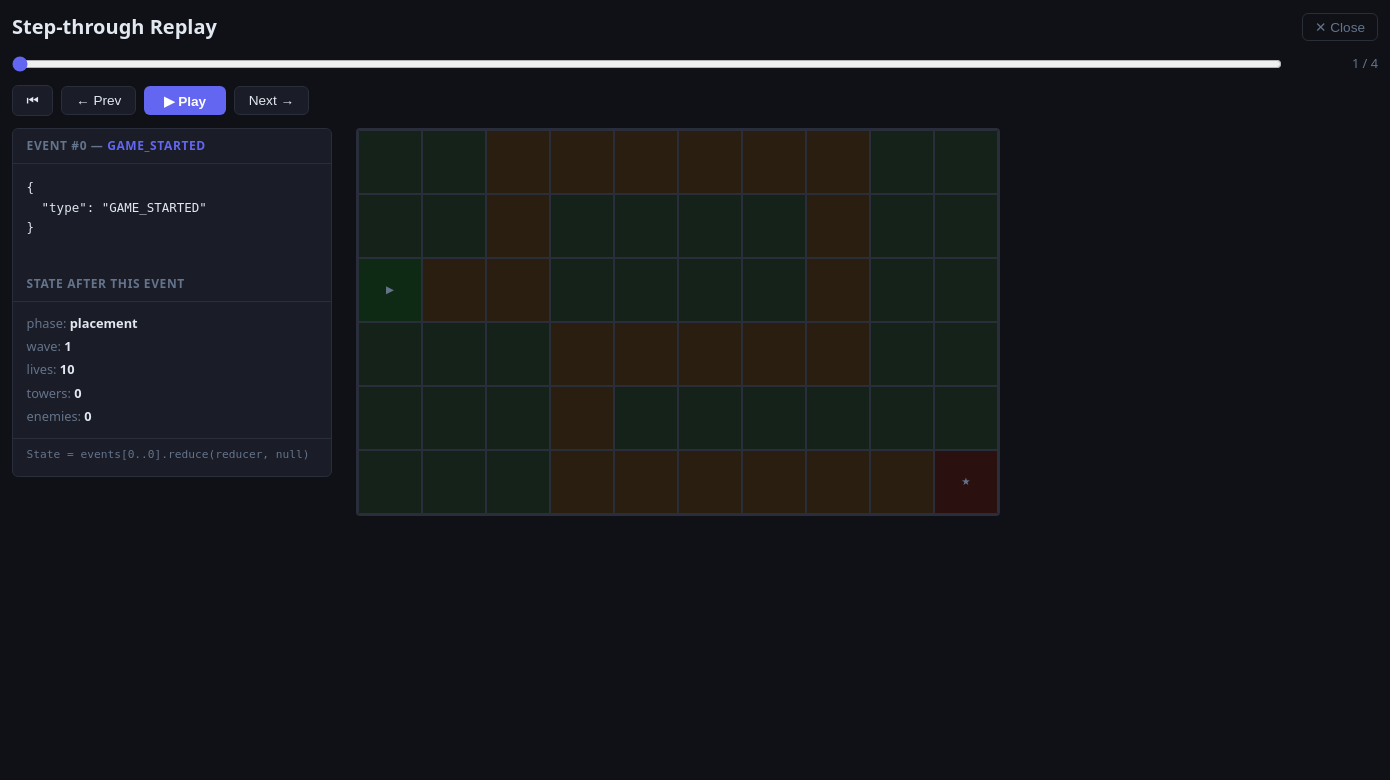
ReplayViewer › restarts to event #0 when ⏮ is clicked
The image size is (1390, 780).
Click the button "Next →". click: {"x": 271, "y": 101}
box: x1=234 y1=86 x2=309 y2=116
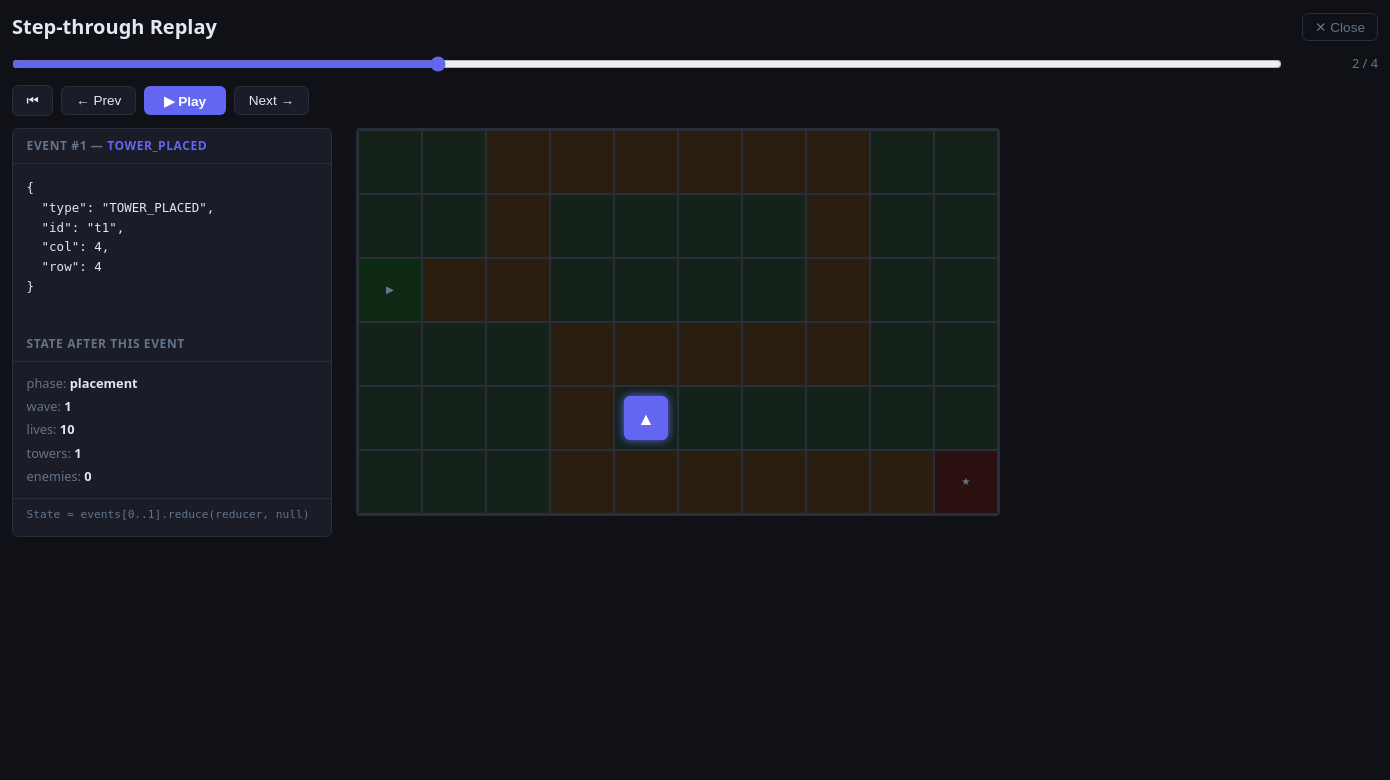
Click the button "Next →". click: {"x": 271, "y": 101}
box: x1=234 y1=86 x2=309 y2=116
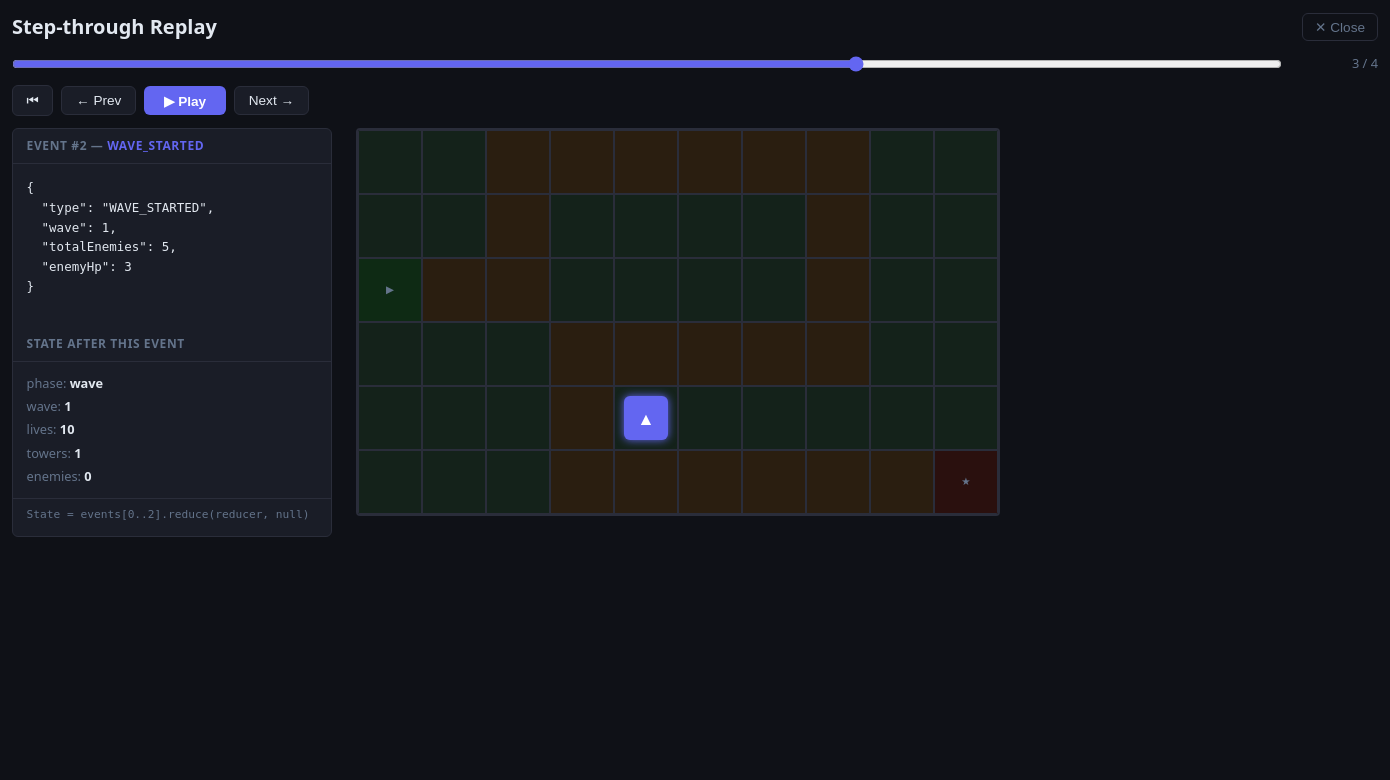
Click the button titled "Restart". click: {"x": 33, "y": 101}
box: x1=12 y1=85 x2=53 y2=116
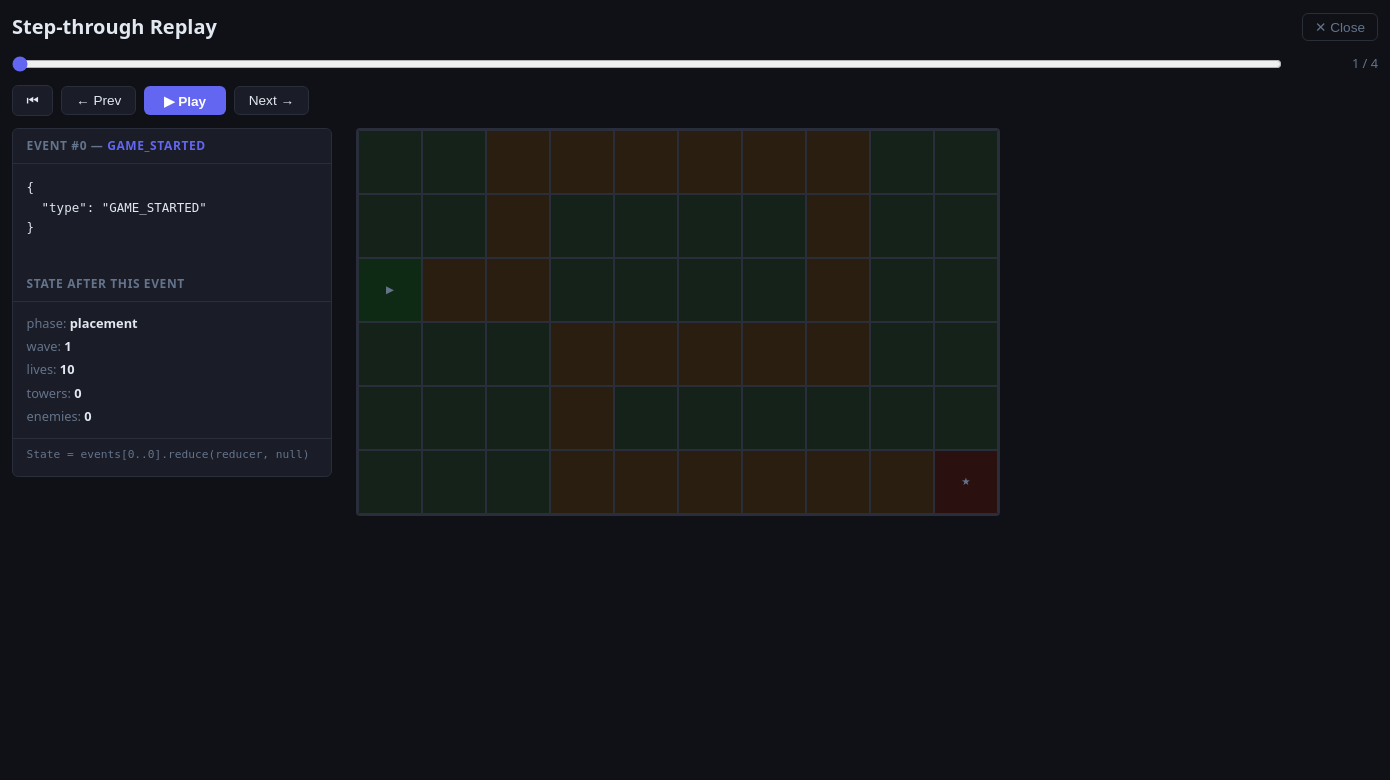
Now the text "Event #0 — GAME_STARTED" is shown, box x1=13 y1=129 x2=331 y2=164
